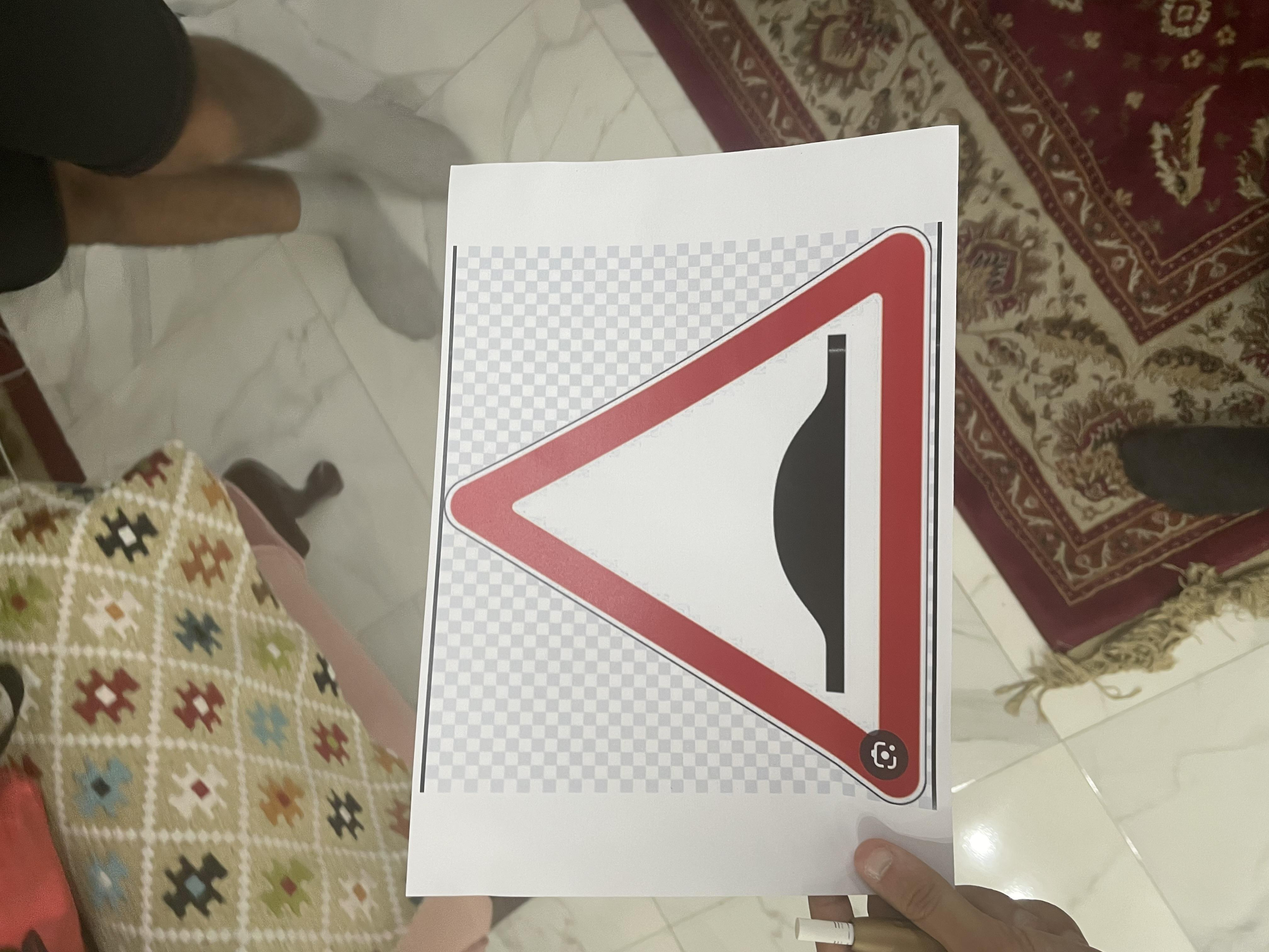Hump: (187, 336, 983, 696)
